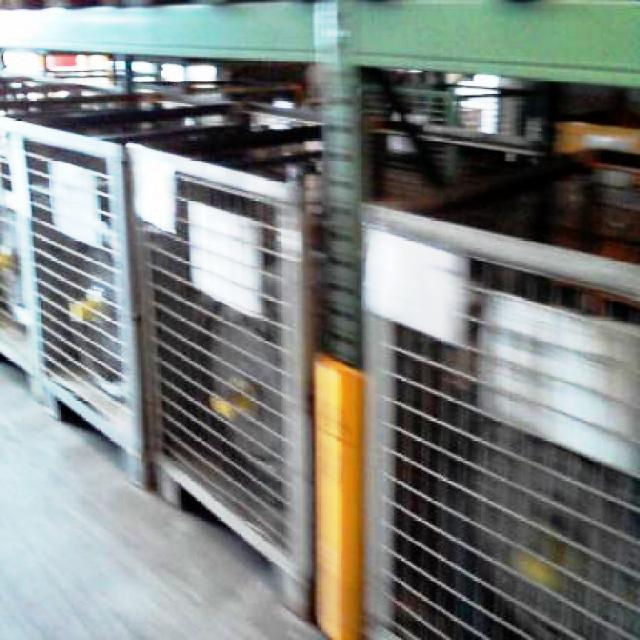pallet: (357, 138, 638, 638), (125, 135, 317, 617), (0, 71, 150, 500)
